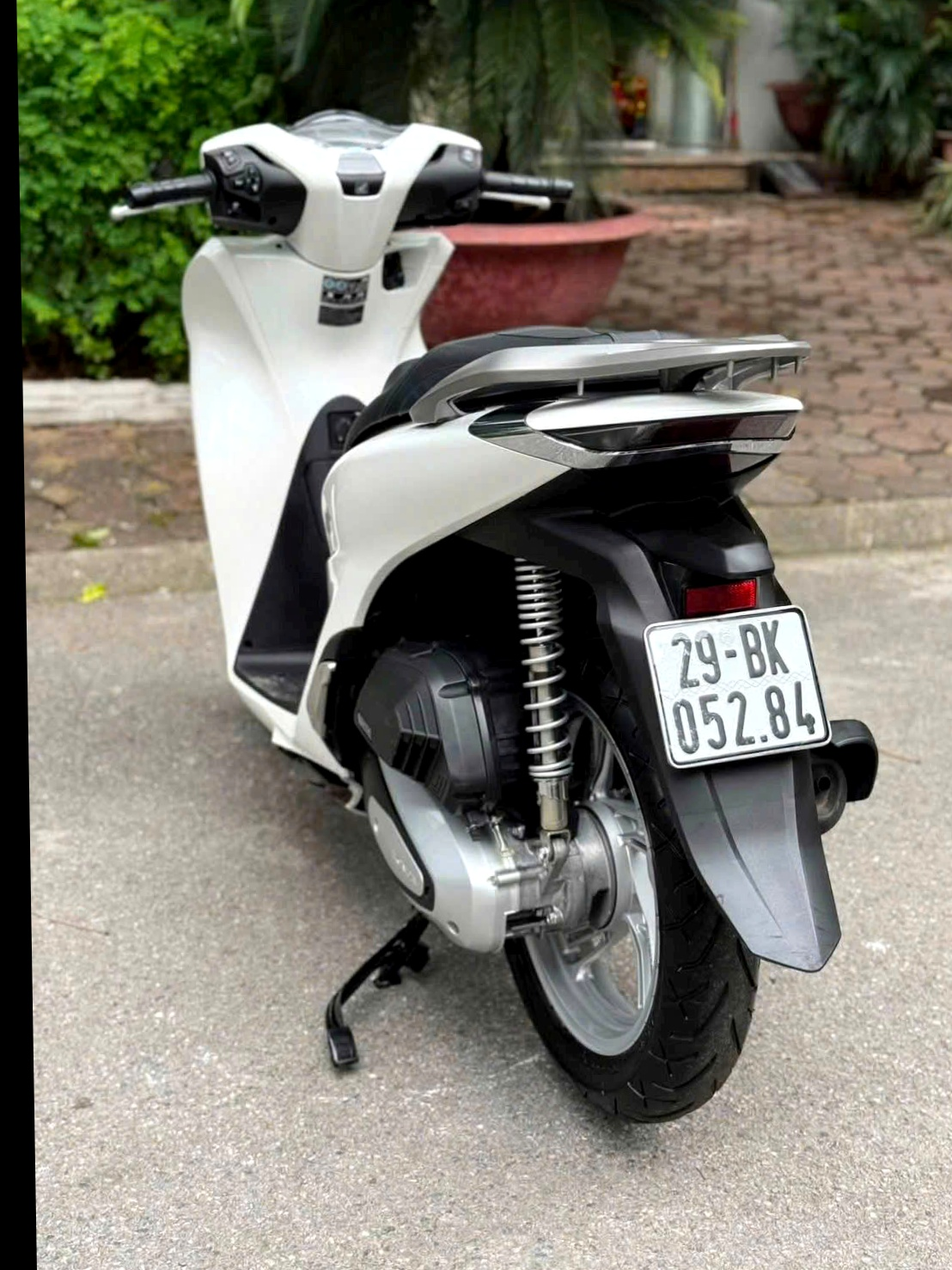Bien-so: (646, 598, 838, 777)
